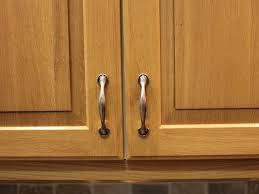handle: (94, 71, 111, 142), (135, 74, 152, 138)
